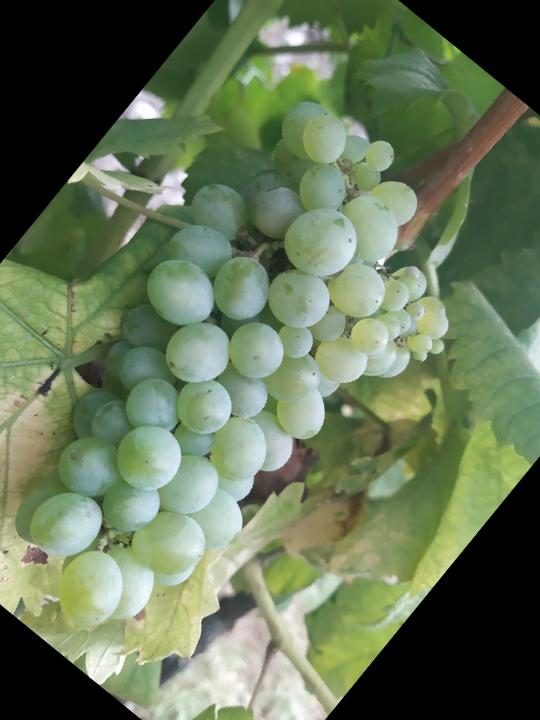grape: (0, 65, 526, 699)
